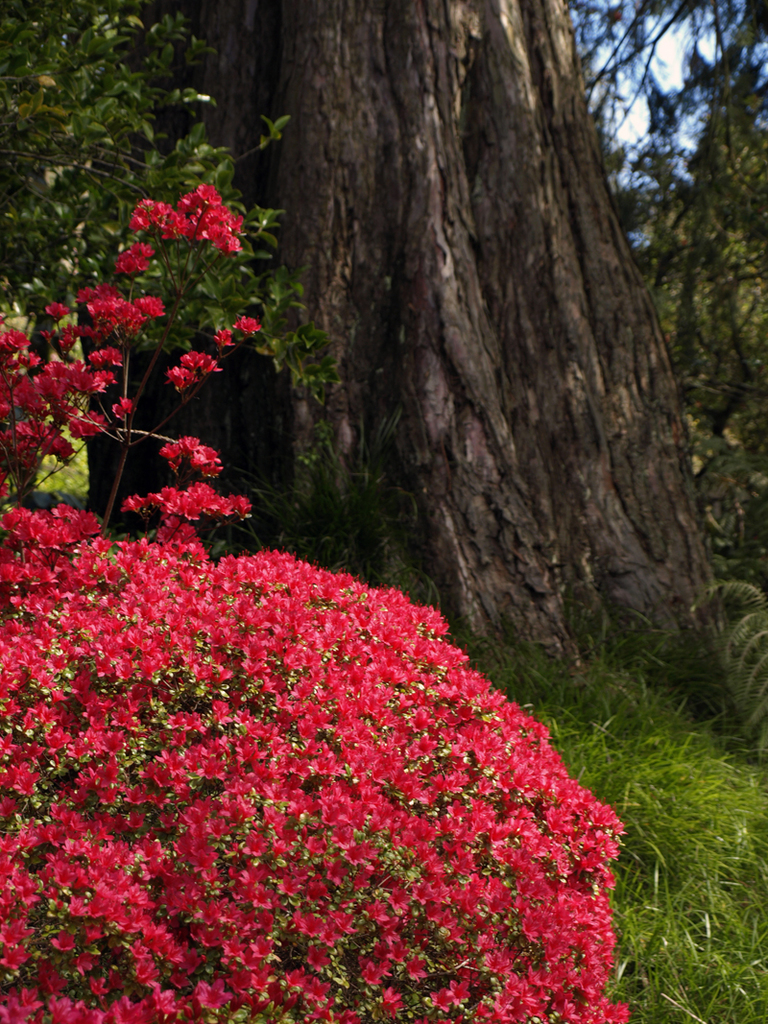Tree: (0, 0, 767, 725)
